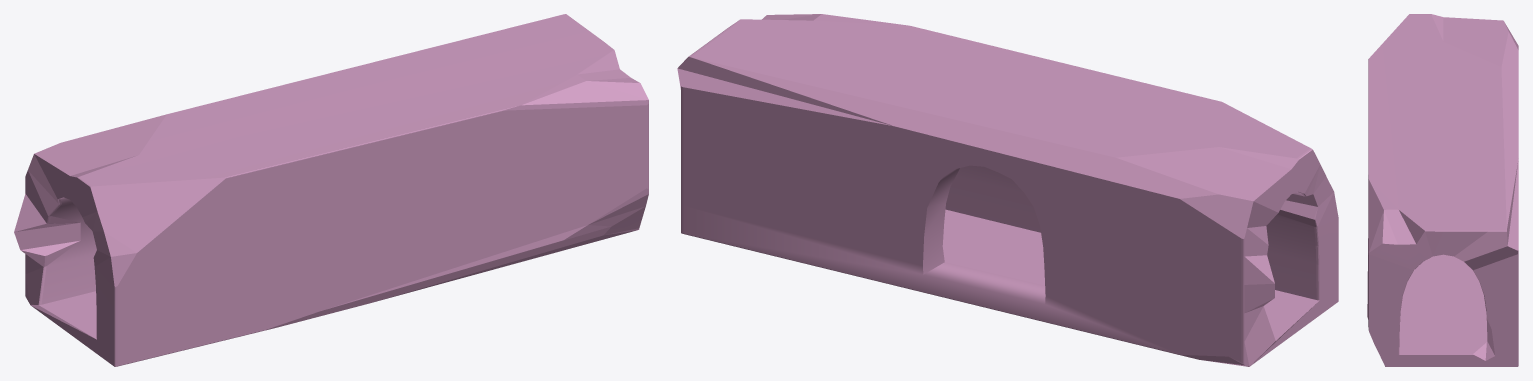
File: chatka_final_long.fbx
The picture shows the model from 3 angles, left to right: view 1: azimuth 30°, elevation 25°; view 2: azimuth 150°, elevation 25°; view 3: azimuth 270°, elevation 25°; orthographic projection. The views are drawn at different scales.
Visible parts, largest first — view 1: kocia_chatka_dluga; view 2: kocia_chatka_dluga; view 3: kocia_chatka_dluga.
Part boxes in pixels (<box>): kocia_chatka_dluga: <box>14,14,648,366</box>; kocia_chatka_dluga: <box>677,14,1338,366</box>; kocia_chatka_dluga: <box>1367,14,1518,366</box>.
Size of the model in its own units: 902 by 249 by 251.
